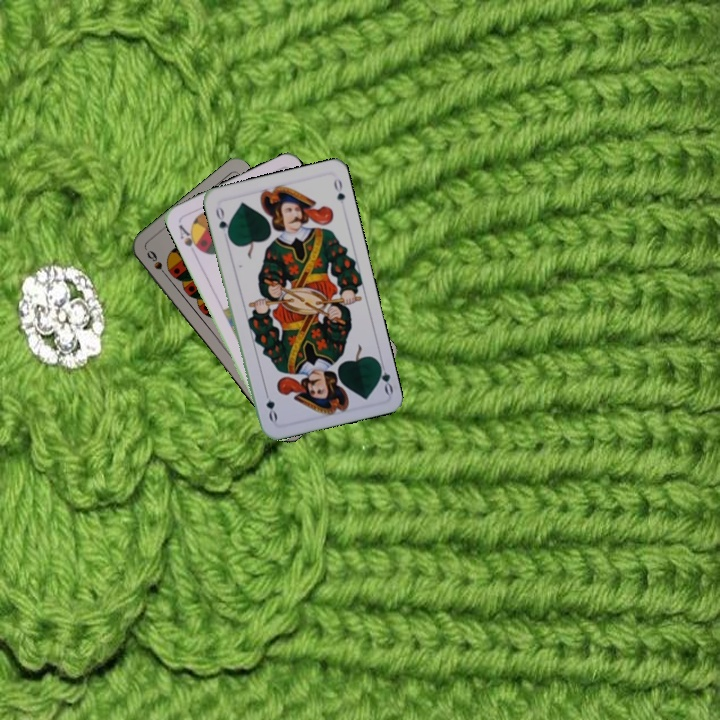GO: (374, 356, 396, 397), (212, 203, 232, 241)
S9: (143, 246, 171, 281)
SA: (175, 220, 204, 254)
